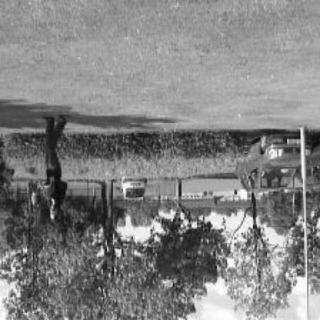other: (36, 177, 57, 207)
